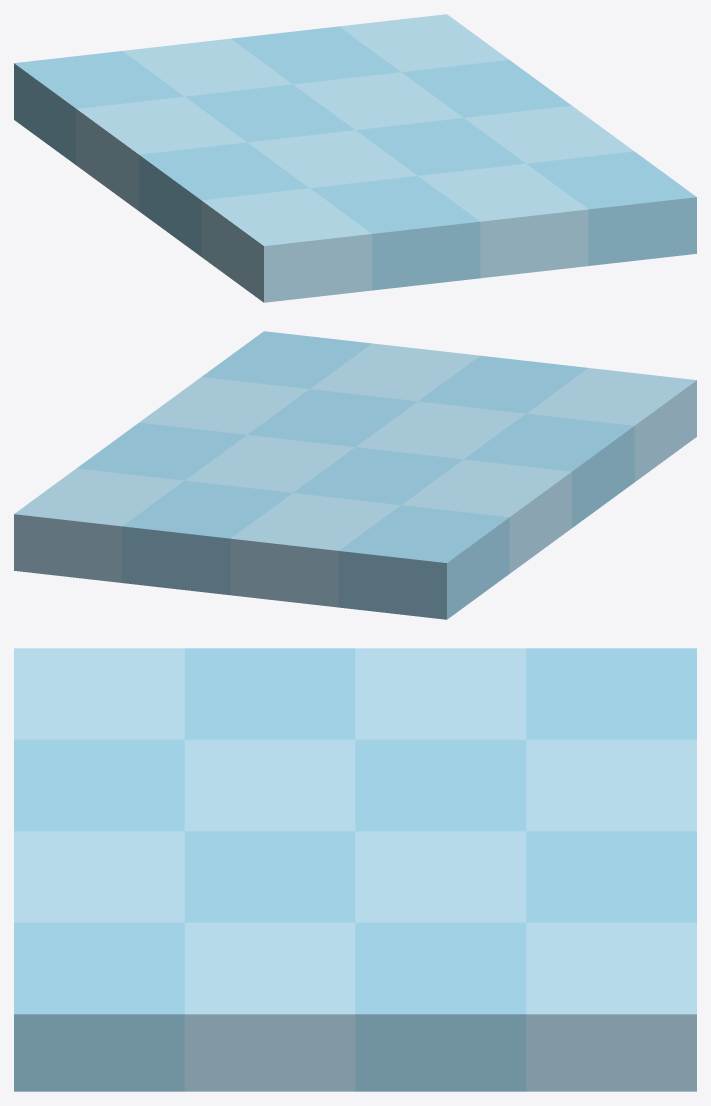
Rendered from inc1.fbx.
3 views of the same model, one above another, from view 1: azimuth 30°, elevation 25°; view 2: azimuth 150°, elevation 25°; view 3: azimuth 270°, elevation 25° (orthographic). The views are drawn at different scales.
Parts seen in each view (by area): view 1: Cube.001; view 2: Cube.001; view 3: Cube.001.
Part boxes in pixels (<box>): Cube.001: <box>14,14,696,302</box>; Cube.001: <box>14,331,696,619</box>; Cube.001: <box>14,648,696,1091</box>.
Size of the model in its own units: 8 by 2 by 8.
